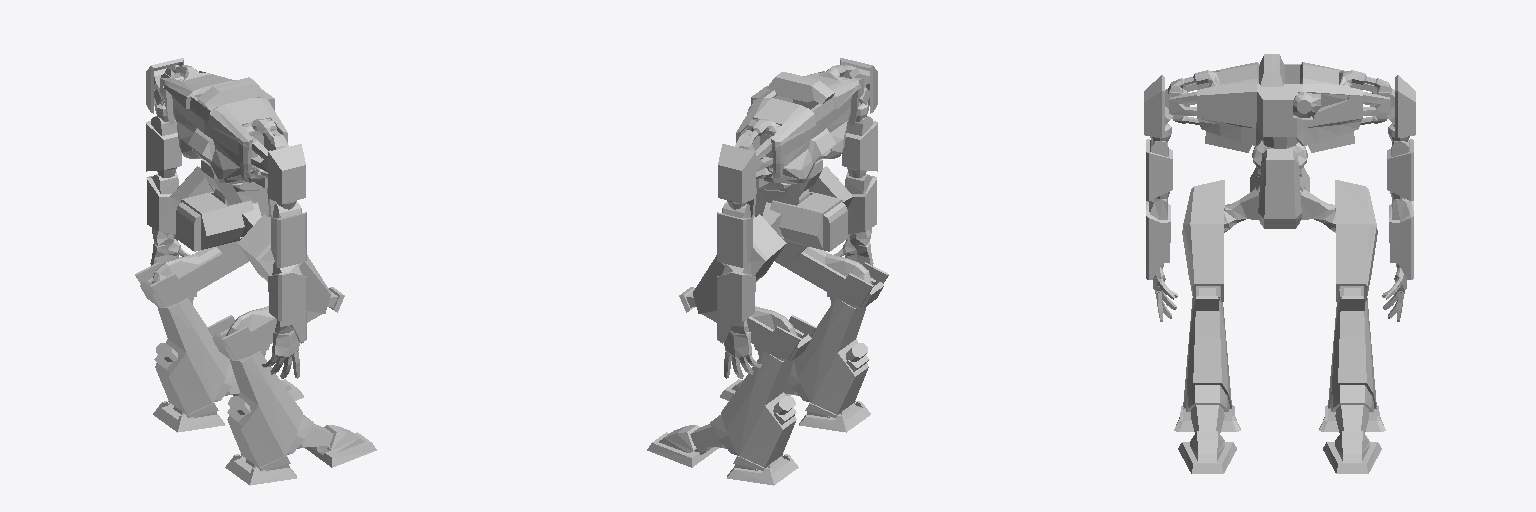
Rendered from BattleDroid.obj.
3 views of the same model, side by side, from view 1: azimuth 30°, elevation 25°; view 2: azimuth 150°, elevation 25°; view 3: azimuth 270°, elevation 25° (orthographic).
Parts seen in each view (by area): view 1: Mati_LoaderDefault; view 2: Mati_LoaderDefault; view 3: Mati_LoaderDefault.
Part boxes in pixels (bbox=[...]): Mati_LoaderDefault: bbox=[135, 58, 376, 485]; Mati_LoaderDefault: bbox=[647, 58, 888, 485]; Mati_LoaderDefault: bbox=[1144, 54, 1415, 473].
Bounding box in the file's own units: 93.25 × 209 × 142.